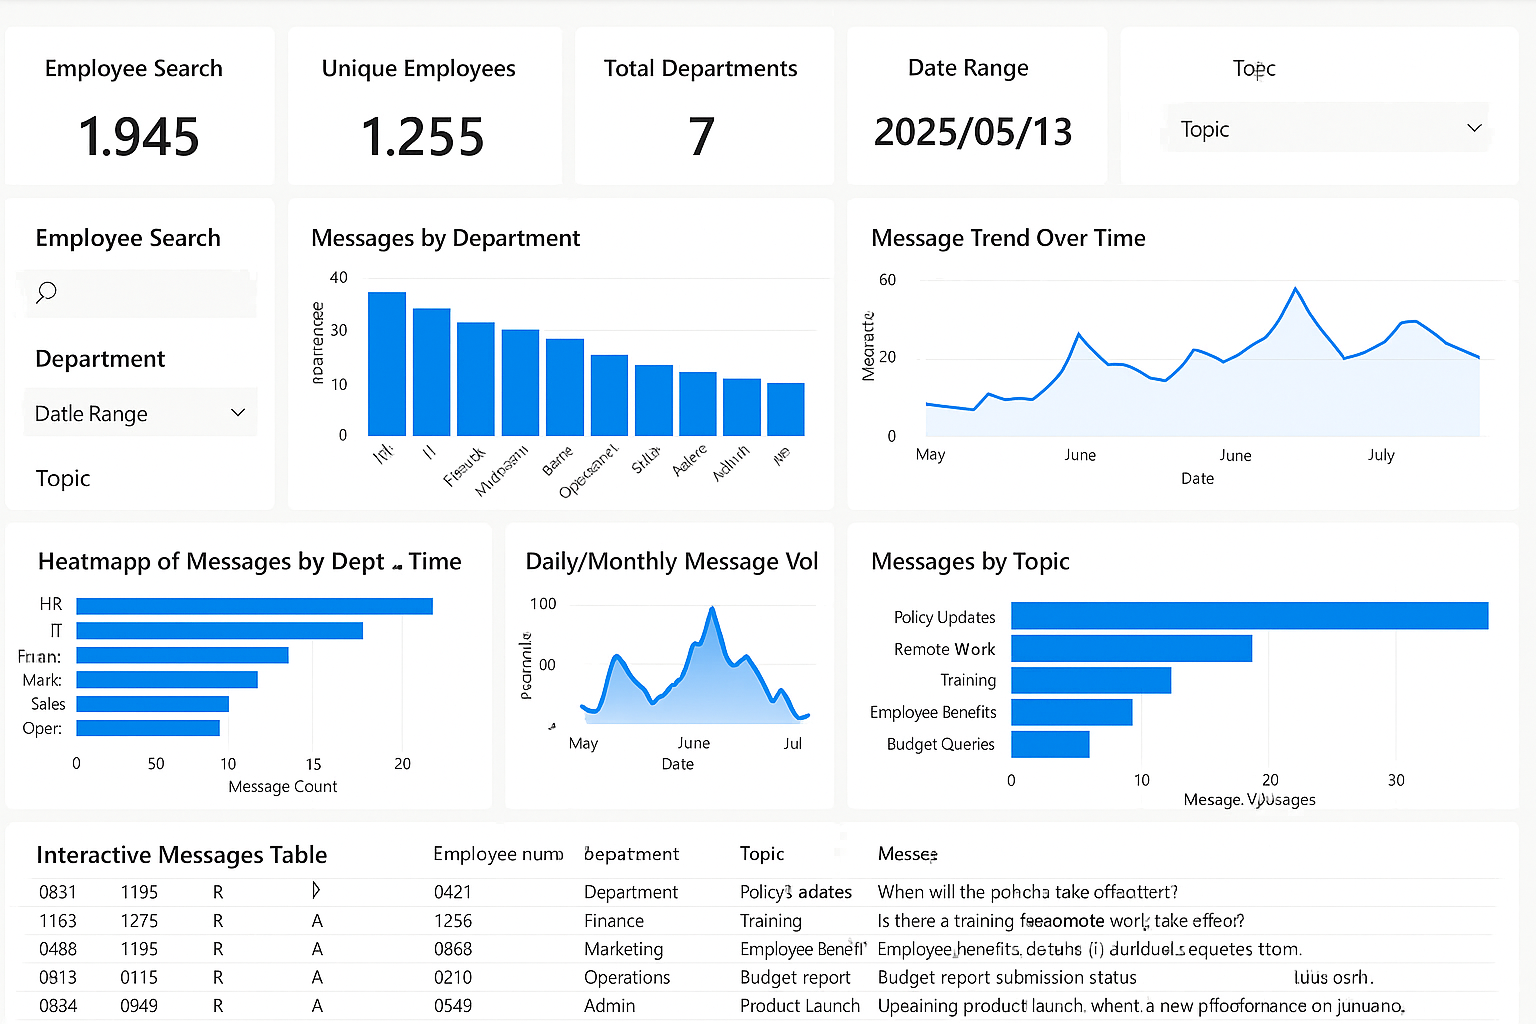

The page's visual inventory and layout, read from the dashboard file:
{"tool":"powerbi","page":{"name":"Page 1","canvas":[1280,720],"ordinal":0},"visuals":[{"type":"card","title":"Topic","fields":{"Values":["Messages.Topic_choosen"]},"box":[0,0,271.8,144],"z":2000},{"type":"card","title":"Employees","fields":{"Values":["Count(Messages.EMP_id)"]},"box":[272.1,19.9,162,107],"z":3000},{"type":"card","title":"Departments","fields":{"Values":["Count(Messages.department)"]},"box":[903.4,19.9,162,107],"z":4000},{"type":"card","title":"Messages","fields":{"Values":["CountNonNull(Messages.Message_Id)"]},"box":[1096.1,19.9,183.4,107],"z":5000},{"type":"slicer","fields":{"Values":["messages.EMP_id"]},"box":[0,527.4,157.2,192.5],"z":6000},{"type":"card","fields":{"Values":["Messages.Selected_EMPs"]},"box":[0,471.6,155.7,55.8],"z":7000},{"type":"actionButton","box":[0,0,100,40],"z":8000},{"type":"areaChart","title":"Messages Over Time","fields":{"Y":["CountNonNull(Messages.Message_Id)"],"Category":["Messages.timestamp.Variation.Date Hierarchy.Year","Messages.timestamp.Variation.Date Hierarchy.Quarter","Messages.timestamp.Variation.Date Hierarchy.Month","Messages.timestamp.Variation.Date Hierarchy.Day"]},"box":[777.2,471.6,495.1,248.3],"z":9000},{"type":"donutChart","title":"Messages'' Topics","fields":{"Y":["CountNonNull(Messages.Message_Id)"],"Category":["Messages.Predicted_Topic"]},"box":[689,146.9,590.6,326.1],"z":10000},{"type":"columnChart","title":"Messages Per Department","fields":{"Y":["CountNonNull(Messages.Message_Id)"],"Category":["Messages.department"]},"box":[157.2,138.1,531.8,326.1],"z":11000},{"type":"pivotTable","fields":{"Columns":["Messages.department"],"Values":["CountNonNull(Messages.Message_Id)"],"Rows":["Messages.Predicted_Topic"]},"box":[157.2,473.1,620,246.8],"z":12000},{"type":"slicer","fields":{"Values":["Messages.department"]},"box":[0,224.8,155.7,76.4],"z":13000},{"type":"card","fields":{"Values":["Messages.Selected_department"]},"box":[0,137.6,157.5,81],"z":14000},{"type":"slicer","fields":{"Values":["Messages.Predicted_Topic"]},"box":[0,381.5,156.8,90.4],"z":15000},{"type":"card","fields":{"Values":["Messages.Topic_choosen"]},"box":[0,301,156.8,80.5],"z":16000},{"type":"slicer","title":"Time","fields":{"Values":["Messages.timestamp"]},"box":[434.9,2.9,448.1,141],"z":17000}]}

Visuals, with their boxes on the page's 1280x720 design canvas (x1, y1, x2, y2). These are canvas units, not pixel positions in the 1536x1024 screenshot, which may show the page scaled, cropped or inside an application window:
"Topic" card: box=[0, 0, 272, 144]
"Employees" card: box=[272, 20, 434, 127]
"Departments" card: box=[903, 20, 1065, 127]
"Messages" card: box=[1096, 20, 1280, 127]
slicer - messages.EMP_id: box=[0, 527, 157, 720]
card - Messages.Selected_EMPs: box=[0, 472, 156, 527]
actionButton: box=[0, 0, 100, 40]
"Messages Over Time" areaChart: box=[777, 472, 1272, 720]
"Messages'' Topics" donutChart: box=[689, 147, 1280, 473]
"Messages Per Department" columnChart: box=[157, 138, 689, 464]
pivotTable - Messages.department x CountNonNull(Messages.Message_Id): box=[157, 473, 777, 720]
slicer - Messages.department: box=[0, 225, 156, 301]
card - Messages.Selected_department: box=[0, 138, 158, 219]
slicer - Messages.Predicted_Topic: box=[0, 382, 157, 472]
card - Messages.Topic_choosen: box=[0, 301, 157, 382]
"Time" slicer: box=[435, 3, 883, 144]
